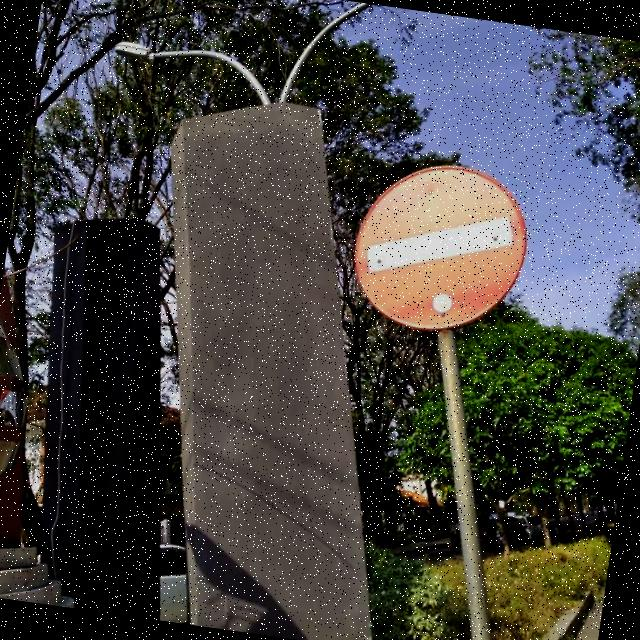Zakaz wjazdu: (343, 156, 534, 339)
